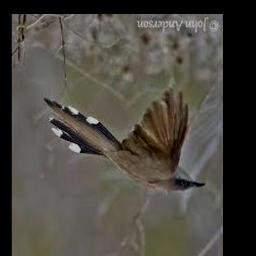Cuckoo: (44, 90, 206, 194)
